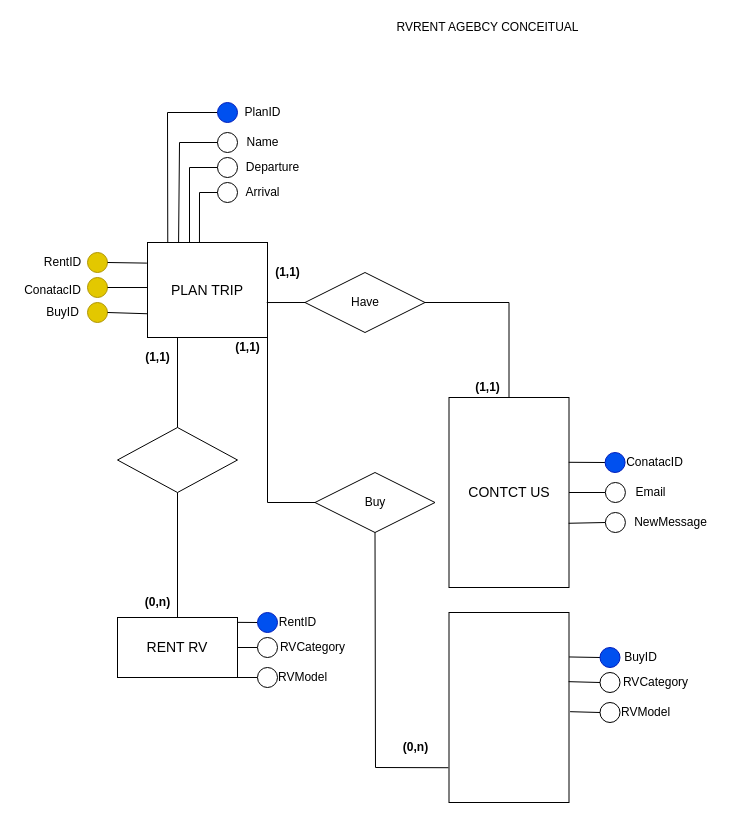
The diagram is 732 pixels wide and 820 high, and some of its shapes have lost their labels. Here are the shapes that lost their labels. From the top down, the centre of each, then its label:
At [177,459]: "Make a Reservation".
At [508,707]: "BUY RV".
